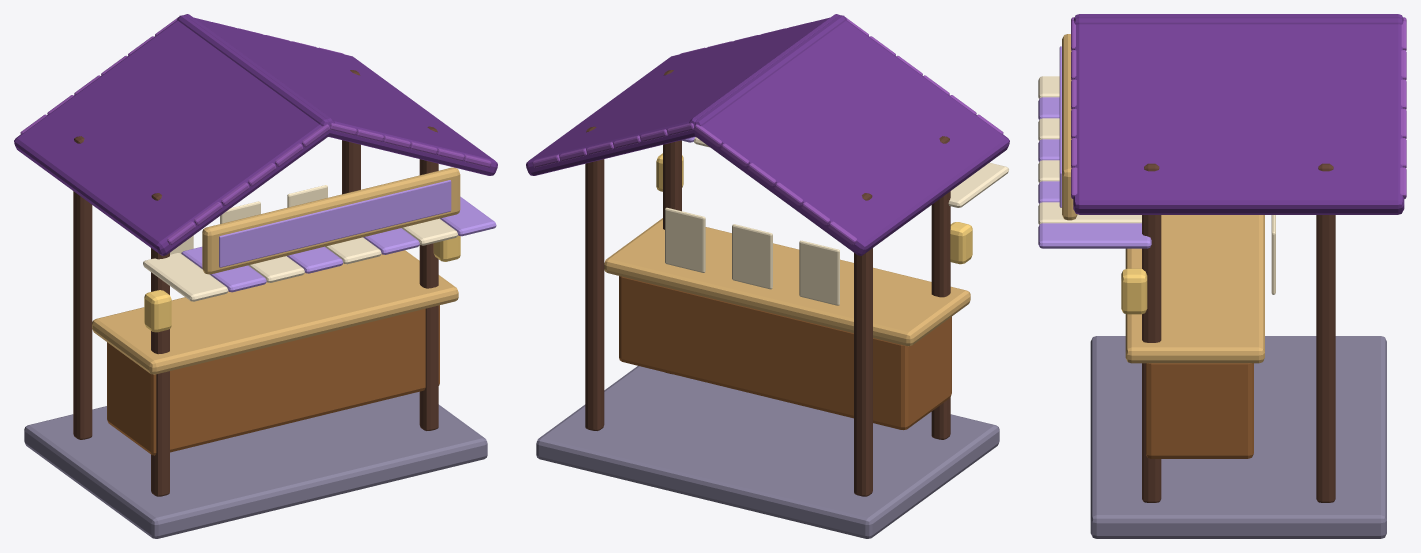
File: Pavilion_Quests.glb
The picture shows the model from 3 angles, left to right: view 1: azimuth 30°, elevation 25°; view 2: azimuth 150°, elevation 25°; view 3: azimuth 270°, elevation 25°; orthographic projection. The views are drawn at different scales.
Parts seen in each view (by area): view 1: Roof.006, StoneBase.003, Counter.003, CounterTop.003, Roof.007, SignInset.003, Sign.003, Post.013, Post.014, Post.012, AwningStripe.024, AwningStripe.025 (+10 smaller); view 2: StoneBase.003, Roof.006, Counter.003, CounterTop.003, Roof.007, Post.015, Post.013, Post.012, Parchment, Parchment.001, Parchment.002, Post.014 (+2 smaller); view 3: Roof.007, StoneBase.003, CounterTop.003, Counter.003, Post.015, Post.014, Roof.006, AwningStripe.031, Sign.003, Lantern.007, AwningStripe.030, SignInset.003 (+6 smaller).
Boxes of the visible parts, box(x1,y1,x2,y2) form: Roof.006: box(14, 14, 334, 255); StoneBase.003: box(24, 391, 487, 538); Counter.003: box(107, 305, 439, 455); CounterTop.003: box(92, 250, 458, 374); Roof.007: box(177, 15, 497, 175); SignInset.003: box(219, 180, 451, 267); Sign.003: box(202, 167, 460, 274); Post.013: box(73, 136, 92, 439); Post.014: box(419, 126, 438, 430); Post.012: box(151, 193, 169, 496); AwningStripe.024: box(143, 253, 228, 301); AwningStripe.025: box(181, 247, 266, 292); StoneBase.003: box(536, 366, 999, 538); Roof.006: box(689, 14, 1009, 255); Counter.003: box(619, 276, 951, 430); CounterTop.003: box(604, 218, 970, 346); Roof.007: box(526, 15, 846, 175); Post.015: box(585, 126, 604, 430); Post.013: box(854, 193, 872, 496); Post.012: box(931, 136, 950, 439); Parchment: box(799, 240, 839, 305); Parchment.001: box(732, 224, 772, 289); Parchment.002: box(665, 207, 705, 272); Post.014: box(663, 70, 681, 373); Roof.007: box(1073, 14, 1404, 214); StoneBase.003: box(1090, 336, 1386, 538); CounterTop.003: box(1125, 215, 1264, 363); Counter.003: box(1146, 363, 1253, 458); Post.015: box(1316, 163, 1335, 502); Post.014: box(1142, 163, 1161, 502); Roof.006: box(1074, 16, 1403, 24); AwningStripe.031: box(1038, 223, 1151, 248); Sign.003: box(1062, 34, 1077, 220); Lantern.007: box(1121, 268, 1147, 314); AwningStripe.030: box(1038, 202, 1141, 224); SignInset.003: box(1059, 46, 1061, 207).
Size of the model in its own units: 5.07 by 5.49 by 4.23.
